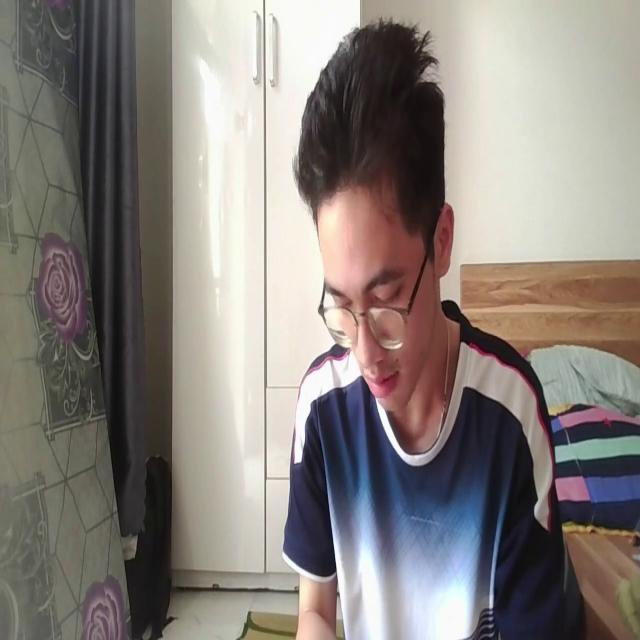student: (278, 21, 568, 640)
